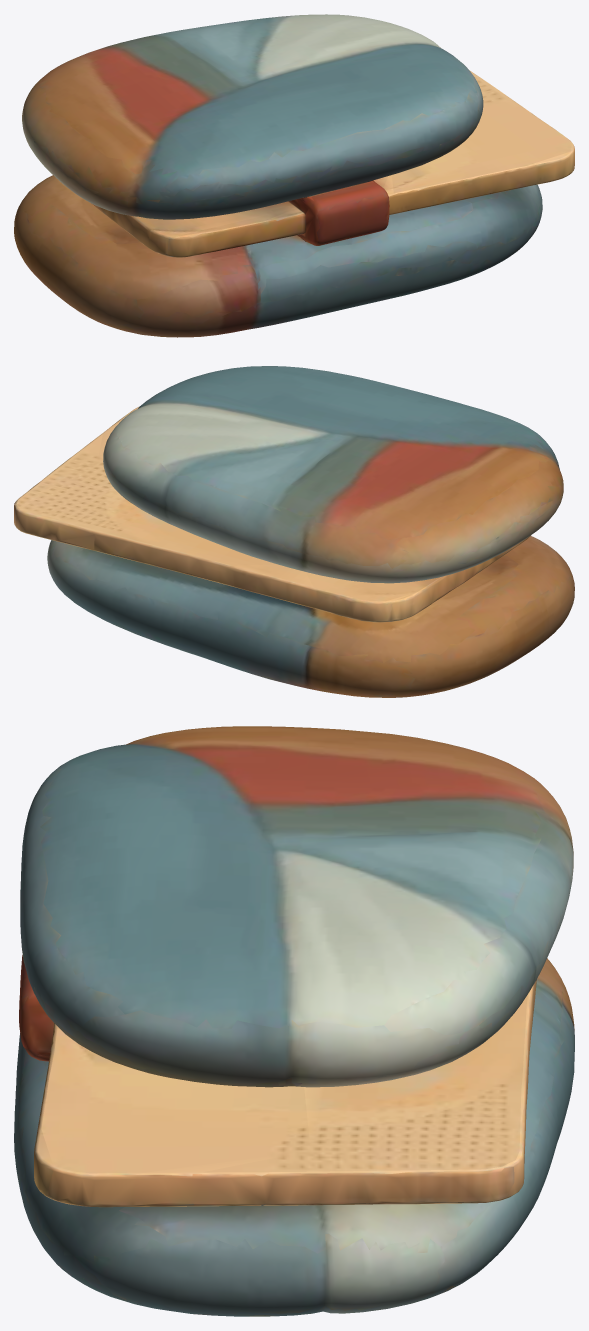
Rendered from sc-clue-stone.glb.
3 views of the same model, one above another, from view 1: azimuth 30°, elevation 25°; view 2: azimuth 150°, elevation 25°; view 3: azimuth 270°, elevation 25° (orthographic). The views are drawn at different scales.
Parts seen in each view (by area): view 1: geometry_0; view 2: geometry_0; view 3: geometry_0.
Part boxes in pixels (bbox=[...]): geometry_0: bbox=[14, 14, 574, 337]; geometry_0: bbox=[14, 366, 574, 697]; geometry_0: bbox=[14, 726, 574, 1316].
Size of the model in its own units: 1 by 0.3993 by 0.6578.
1 material, 1 textured.
